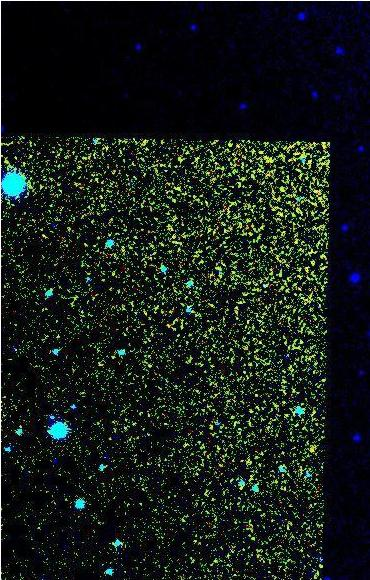star: (298, 438, 328, 468)
